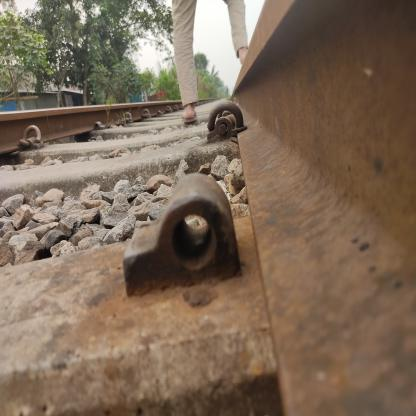Defective: (93, 147, 263, 333)
